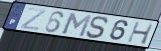6: (44, 10, 66, 34), (109, 19, 129, 42)
H: (125, 21, 155, 46)
M: (61, 11, 94, 38)
S: (84, 16, 110, 40)
Z: (19, 7, 48, 32)
